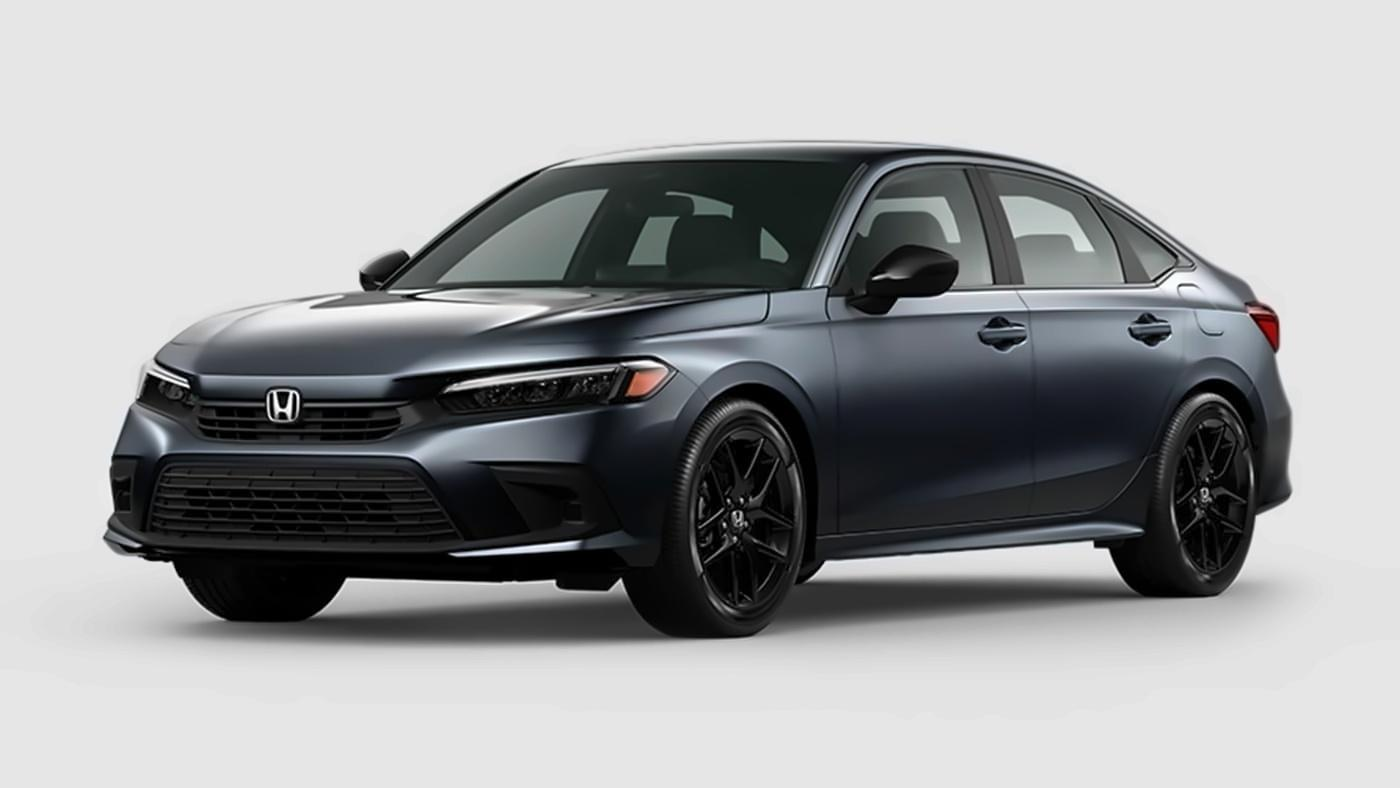Car hood: (160, 286, 769, 381)
Fender - -F-L-: (662, 277, 841, 562)
Fender - -R-L-: (1146, 248, 1277, 449)
Front bumper: (99, 370, 714, 584)
Headlight - -L-: (435, 355, 684, 419)
Headlight - -R-: (129, 361, 206, 421)
Passenger-s door - -F-L-: (818, 135, 1050, 582)
Passenger-s door - -R-L-: (981, 142, 1189, 564)
Rear bumper: (1231, 357, 1293, 516)
Rear light - -L-: (1240, 301, 1280, 360)
Side bumper - -L-: (804, 477, 1177, 571)
Side mirror - -L-: (848, 246, 959, 315)
